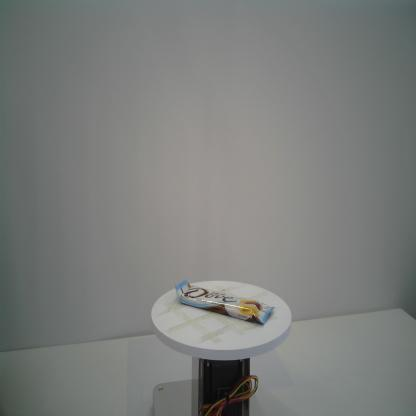Chocolate: (174, 279, 275, 325)
